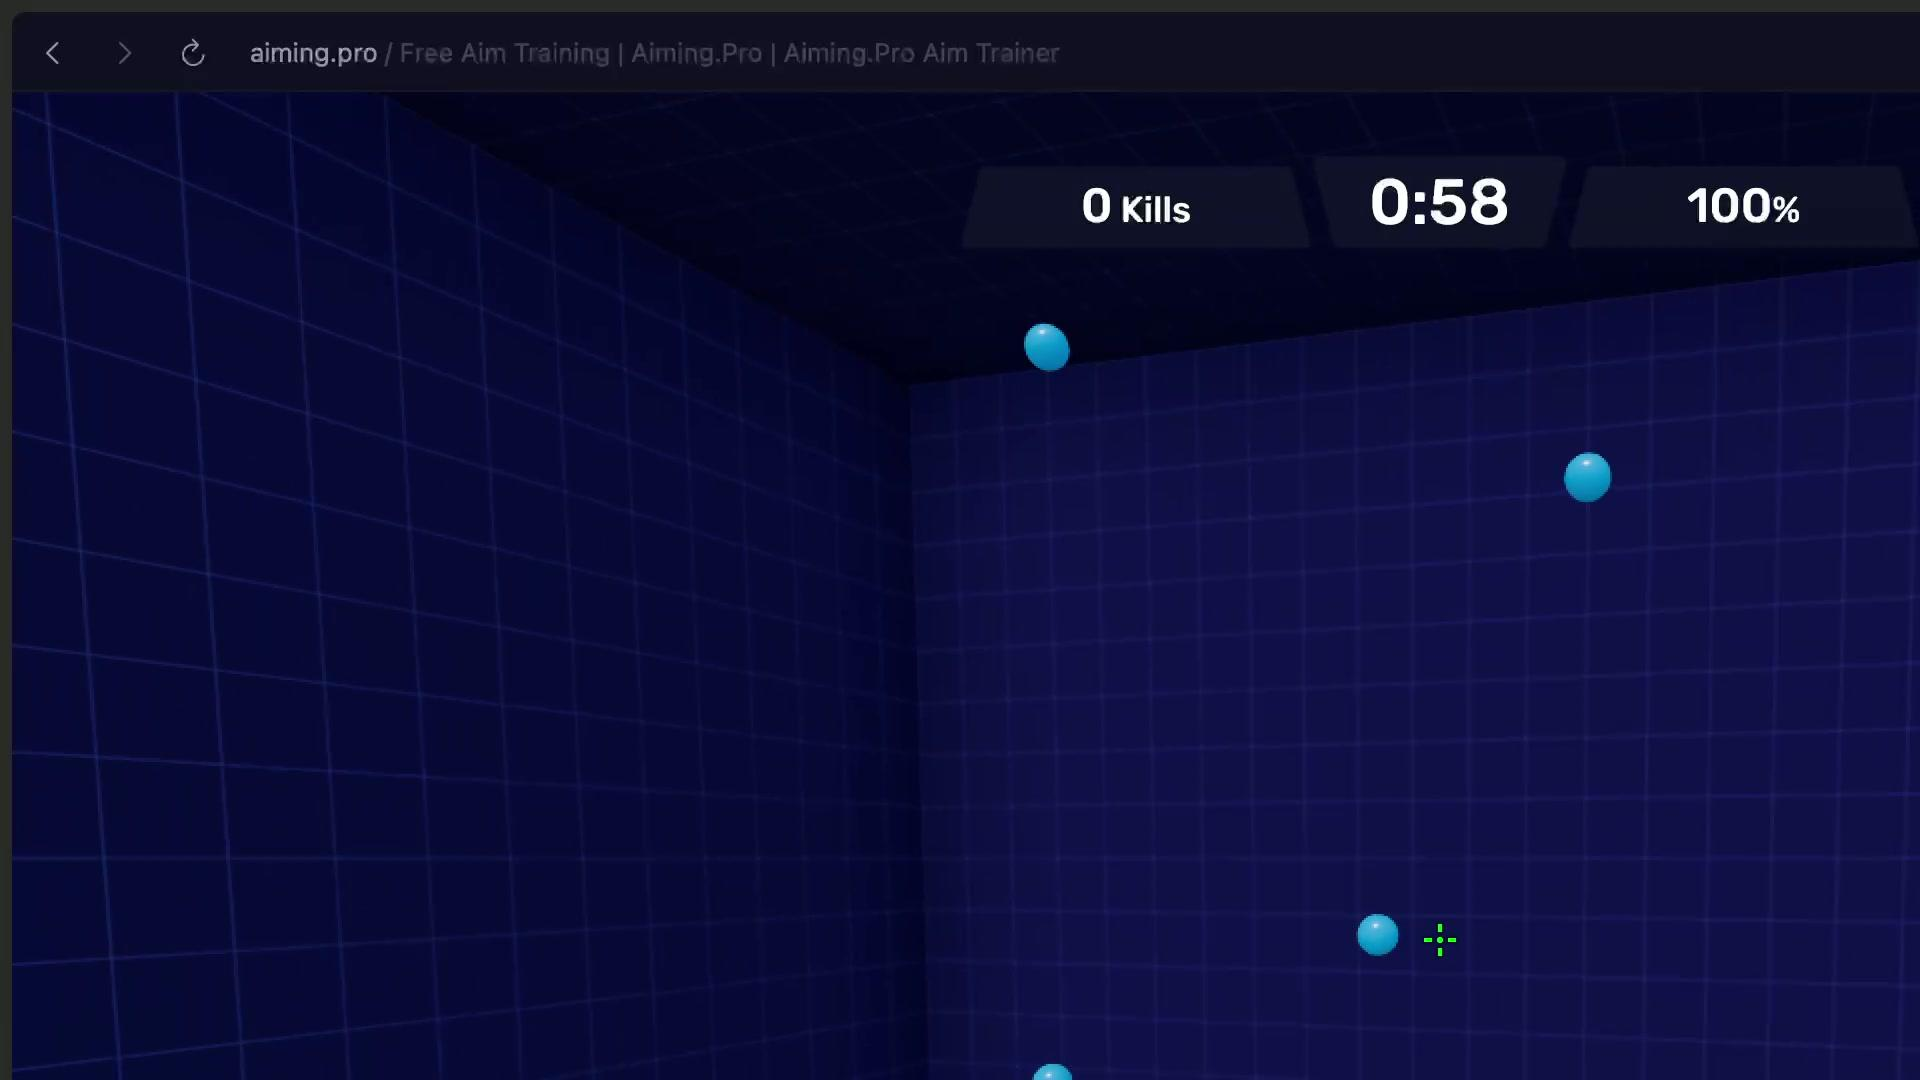target: (1565, 452, 1611, 502), (1025, 323, 1069, 371), (1356, 915, 1398, 955), (1424, 927, 1457, 955), (1033, 1063, 1073, 1079)
